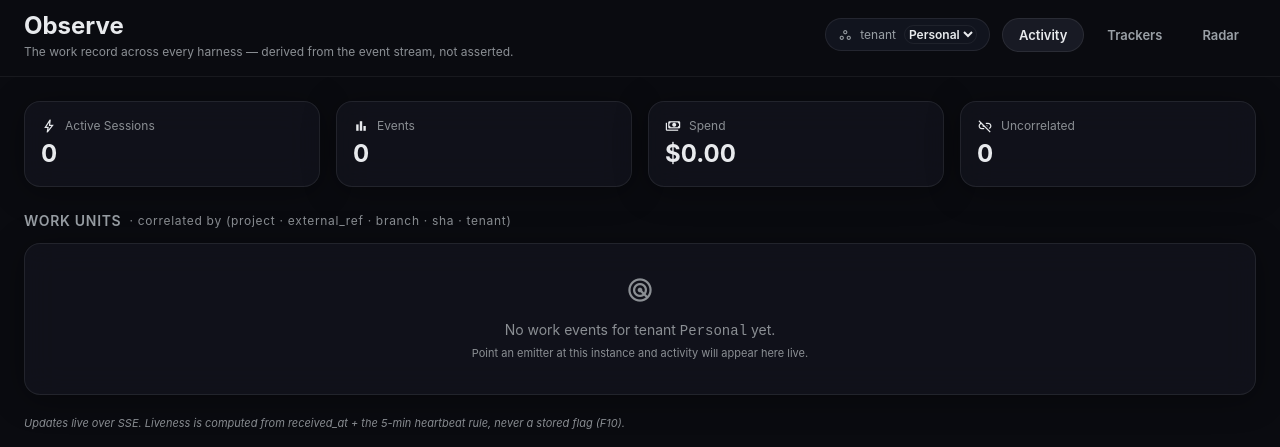
Test: ObserveView tenant switcher › renders the empty-state tenant label as "Work" (not raw "dayjob") after switching
Fire the switcher to the walled tenant.
Select "Work" in the dropdown: (940,35) left=904, top=26, right=977, bottom=44
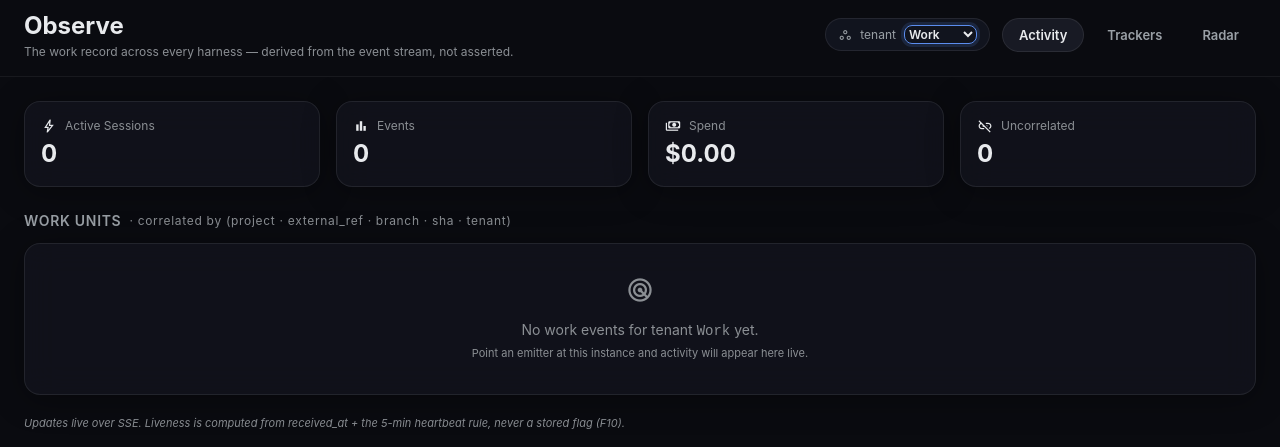
Result: the text "Work" is shown at left=697, top=323, right=730, bottom=339
Result: the text "No work events for tenant Work yet." is shown at left=521, top=321, right=758, bottom=339
